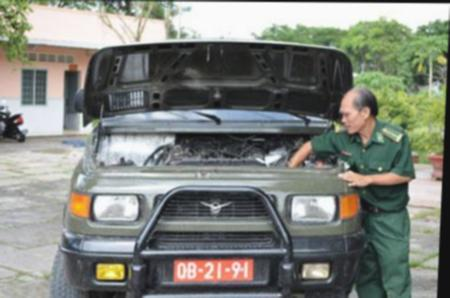License_Plate: (170, 255, 255, 284)
